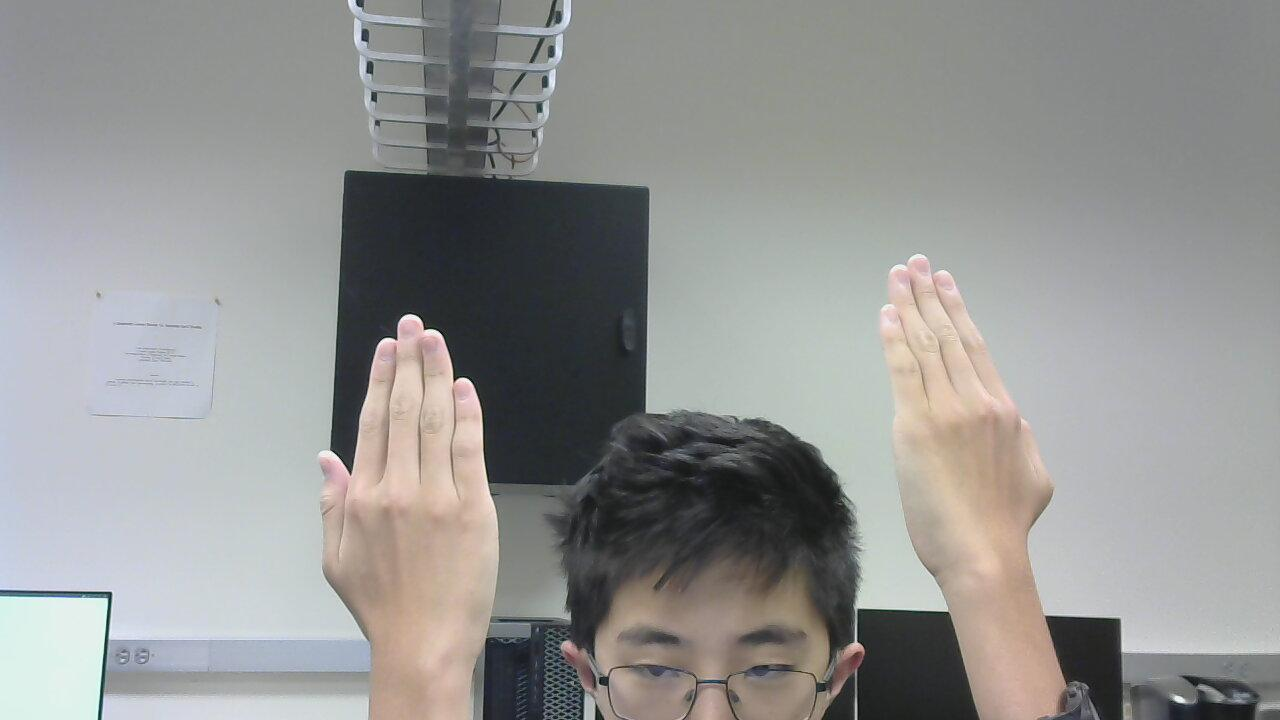hands: (302, 312, 524, 671), (870, 247, 1079, 589)
